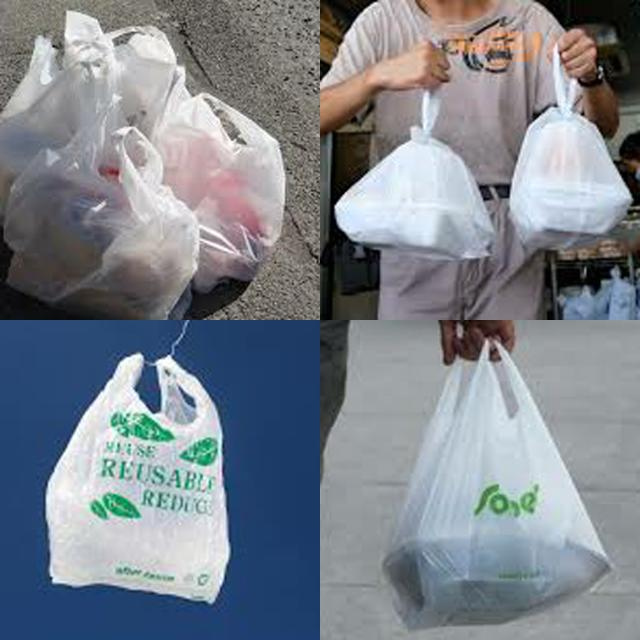Single-layer Plastic: (384, 342, 610, 628), (46, 354, 230, 604), (4, 94, 199, 319), (0, 11, 176, 222), (335, 91, 496, 262), (159, 94, 285, 292), (510, 48, 631, 248)
